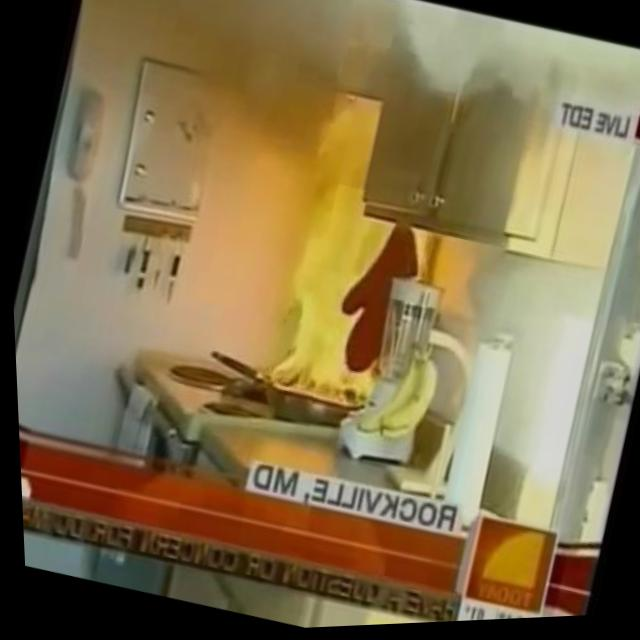fire: (247, 83, 455, 420)
